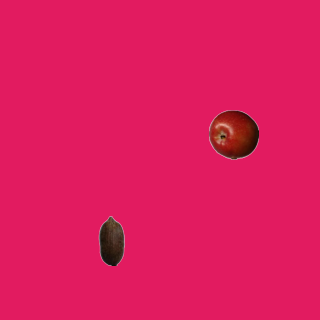Apple Braeburn: (208, 109, 258, 159)
Nut Pecan: (86, 215, 136, 265)
